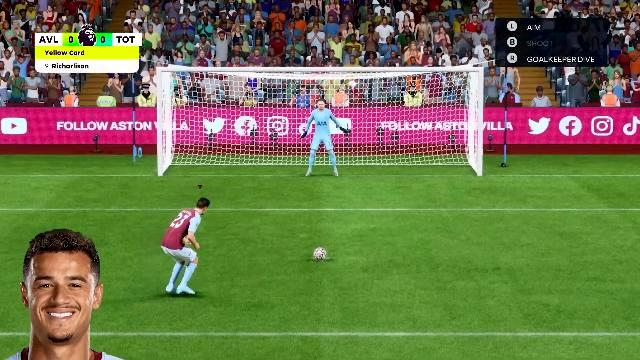bottom-left: (166, 132, 270, 180)
bottom-right: (366, 130, 472, 178)
center-down: (272, 131, 362, 179)
center-up: (273, 75, 363, 129)
football: (314, 247, 326, 259)
goalkeeper: (298, 108, 338, 180)
player: (152, 198, 210, 302)
top-left: (167, 75, 269, 129)
top-right: (365, 76, 473, 128)
